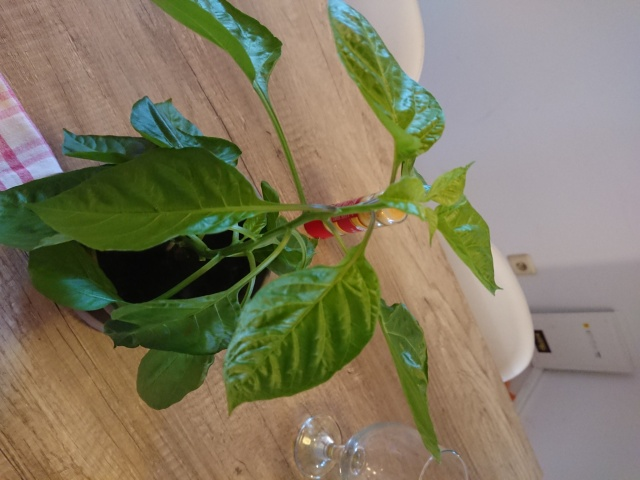Kotanyi Curry Spices Mix 70g: (302, 187, 410, 242)
